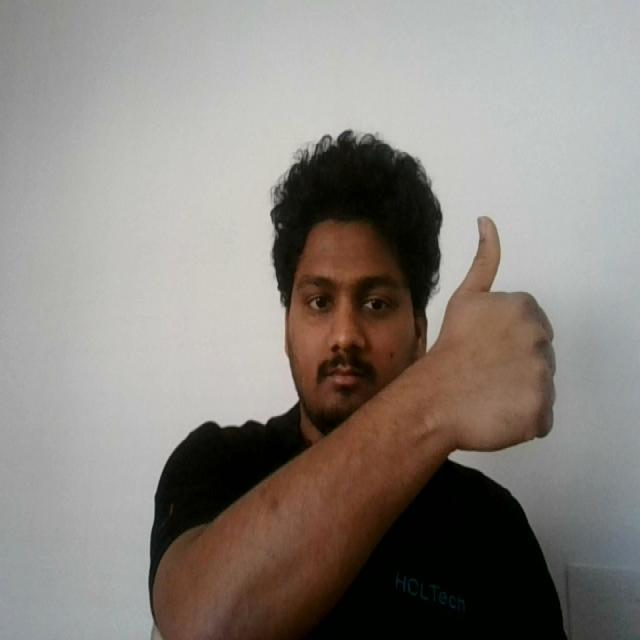Yes: (416, 205, 566, 463)
